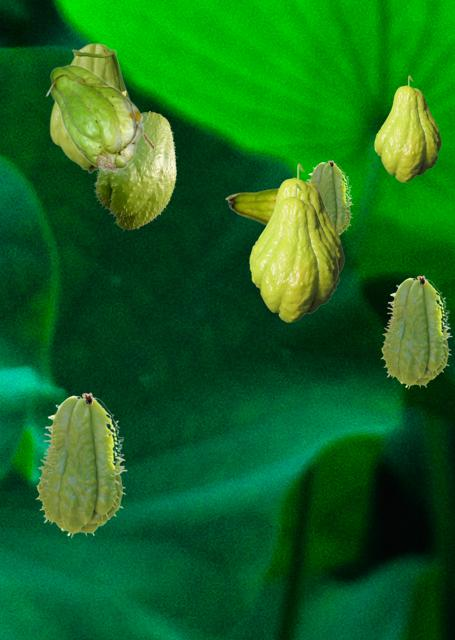sayote: (35, 392, 126, 537), (249, 163, 343, 290), (251, 183, 337, 321), (45, 64, 152, 171), (49, 43, 130, 172), (93, 111, 176, 230), (380, 275, 451, 388), (374, 75, 440, 181), (306, 160, 352, 235), (225, 188, 277, 225)
